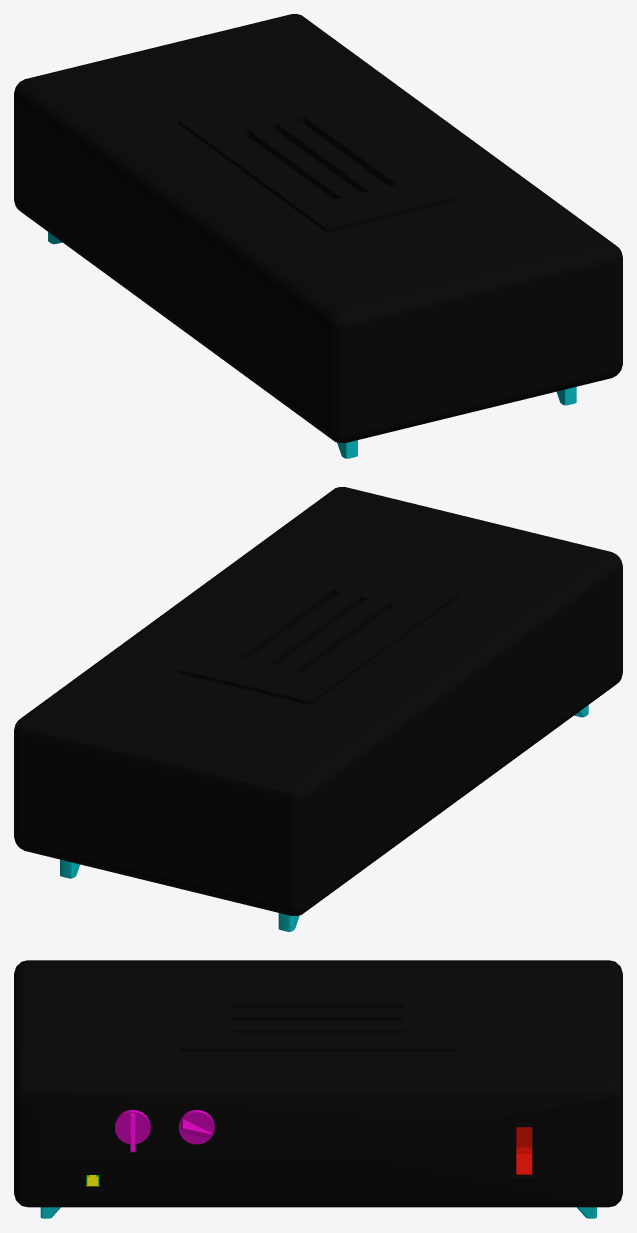
3 views of the same model, one above another, from view 1: azimuth 30°, elevation 25°; view 2: azimuth 150°, elevation 25°; view 3: azimuth 270°, elevation 25° (orthographic). The views are drawn at different scales.
Parts seen in each view (by area): view 1: polySurface48; view 2: polySurface48; view 3: polySurface48.
Boxes of the visible parts, left/top/right/bottom form: polySurface48: left=14, top=14, right=622, bottom=458; polySurface48: left=14, top=487, right=622, bottom=931; polySurface48: left=14, top=960, right=622, bottom=1218.
Size of the model in its own units: 10.1 by 4.96 by 18.2.
